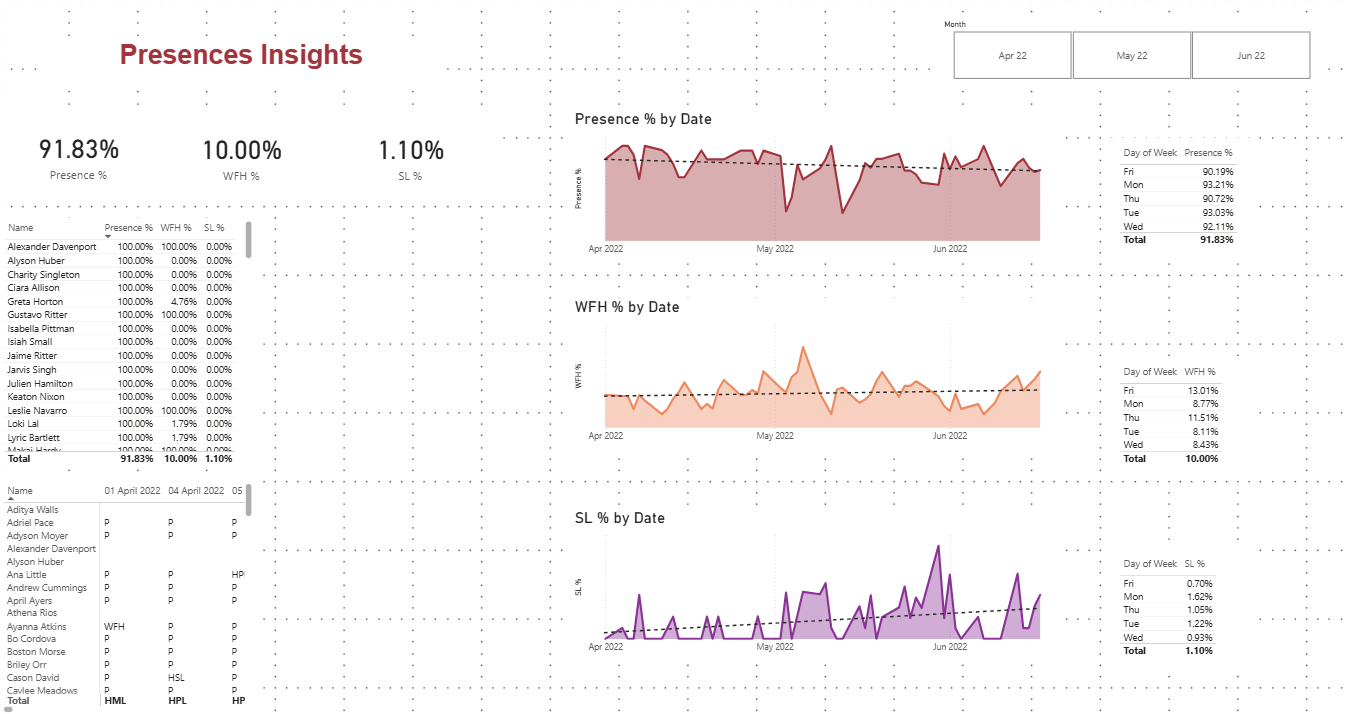

This screenshot's page, from the dashboard's own definition file:
{"tool":"powerbi","page":{"name":"Page 1","canvas":[1880,1000],"ordinal":0},"visuals":[{"type":"card","fields":{"Values":["Measure Table.Presence %"]},"box":[0,153.6,219.9,123.9],"z":0},{"type":"slicer","fields":{"Values":["Final Data.Month"]},"box":[1306,22,548,94],"z":1000},{"type":"card","fields":{"Values":["Measure Table.WFH %"]},"box":[220.6,153.2,234.9,126.6],"z":2000},{"type":"card","fields":{"Values":["Measure Table.SL %"]},"box":[455.6,153.6,235.6,125.7],"z":3000},{"type":"textbox","box":[56,50,562,66],"z":4000},{"type":"tableEx","fields":{"Values":["Final Data.Name","Measure Table.Presence %","Measure Table.WFH %","Measure Table.SL %"]},"box":[0,303.3,356.7,350],"z":5000},{"type":"pivotTable","fields":{"Rows":["Final Data.Name"],"Values":["Min(Final Data.Value)"],"Columns":["Final Data.Date"]},"box":[0,670,356.7,330],"z":6000},{"type":"areaChart","fields":{"Category":["Final Data.Date"],"Y":["Measure Table.Presence %"]},"box":[798,154,684,212],"z":7000},{"type":"areaChart","fields":{"Category":["Final Data.Date"],"Y":["Measure Table.WFH %"]},"box":[798,416,684,212],"z":8000},{"type":"areaChart","fields":{"Category":["Final Data.Date"],"Y":["Measure Table.SL %"]},"box":[798,710,684,212],"z":9000},{"type":"tableEx","fields":{"Values":["Final Data.Day of Week","Measure Table.Presence %"]},"box":[1543.3,191.7,206.7,173.3],"z":10000},{"type":"tableEx","fields":{"Values":["Final Data.Day of Week","Measure Table.WFH %"]},"box":[1543.3,496.7,206.7,173.3],"z":11000},{"type":"tableEx","fields":{"Values":["Final Data.Day of Week","Measure Table.SL %"]},"box":[1543.3,766.7,206.7,173.3],"z":12000}]}

Visuals, with their boxes in screenshot pixels (x1, y1, x2, y2), scaled from the page's 1880x1000 canvas onto the 1345x714 screenshot:
card - Measure Table.Presence %: detection(0, 110, 157, 198)
slicer - Final Data.Month: detection(934, 16, 1326, 83)
card - Measure Table.WFH %: detection(158, 109, 326, 200)
card - Measure Table.SL %: detection(326, 110, 495, 199)
textbox: detection(40, 36, 442, 83)
tableEx - Final Data.Name x Measure Table.Presence %: detection(0, 217, 255, 466)
pivotTable - Final Data.Name x Min(Final Data.Value): detection(0, 478, 255, 713)
areaChart - Final Data.Date x Measure Table.Presence %: detection(571, 110, 1060, 261)
areaChart - Final Data.Date x Measure Table.WFH %: detection(571, 297, 1060, 448)
areaChart - Final Data.Date x Measure Table.SL %: detection(571, 507, 1060, 658)
tableEx - Final Data.Day of Week x Measure Table.Presence %: detection(1104, 137, 1252, 261)
tableEx - Final Data.Day of Week x Measure Table.WFH %: detection(1104, 355, 1252, 478)
tableEx - Final Data.Day of Week x Measure Table.SL %: detection(1104, 547, 1252, 671)
